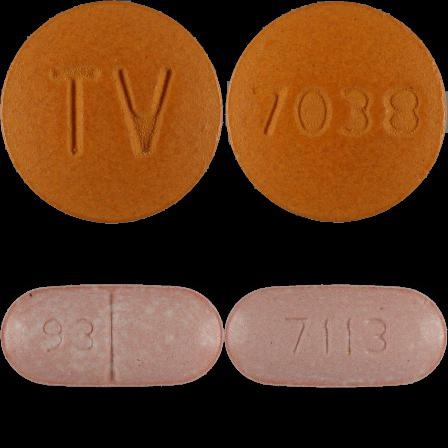0093-7038: (0, 0, 224, 224)
